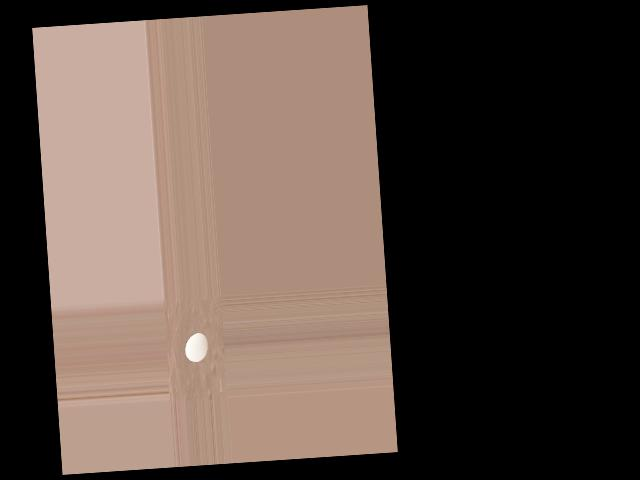egg: (184, 332, 209, 362)
